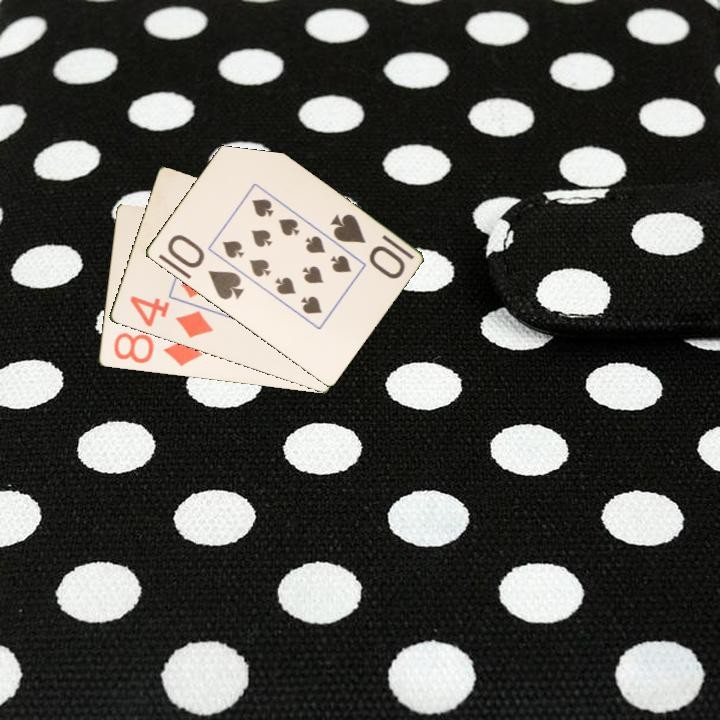10s: (163, 231, 247, 303), (326, 210, 408, 282)
4d: (126, 292, 216, 341)
8d: (110, 329, 205, 369)
